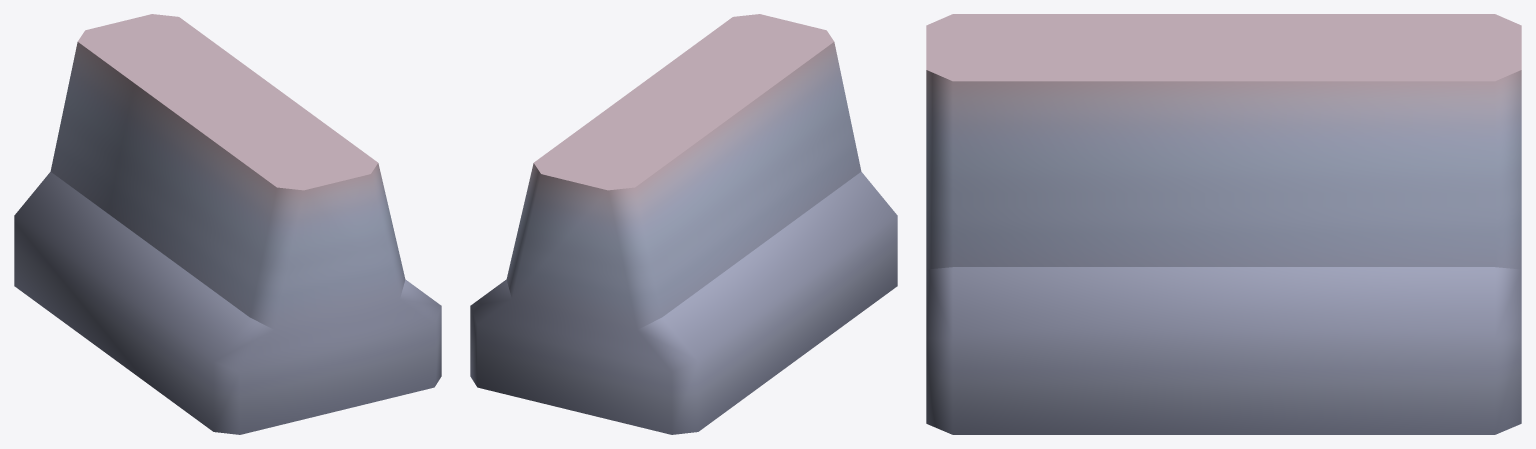
The model's file is road_construction_barrier.glb.
The picture shows the model from 3 angles, left to right: view 1: azimuth 30°, elevation 25°; view 2: azimuth 150°, elevation 25°; view 3: azimuth 270°, elevation 25°; orthographic projection. The views are drawn at different scales.
Visible parts, largest first — view 1: construction-barrier; view 2: construction-barrier; view 3: construction-barrier.
Part boxes in pixels (bbox=[...]): construction-barrier: bbox=[14, 14, 441, 434]; construction-barrier: bbox=[470, 14, 897, 434]; construction-barrier: bbox=[926, 14, 1521, 434].
Size of the model in its own units: 0.1355 by 0.13 by 0.225.
Materials: 1 (1 with a texture image).
